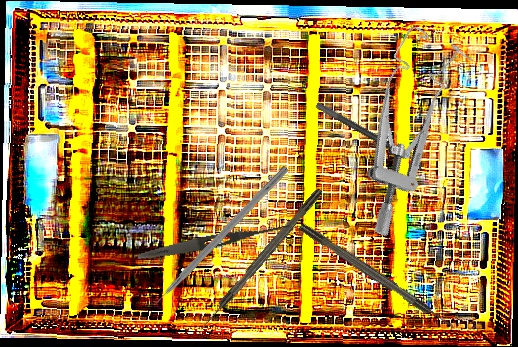Chopper: (137, 158, 290, 314)
Dressing Forceps: (136, 217, 292, 265)
Fixation Ring: (310, 101, 426, 178)
Hook Surgical: (196, 187, 325, 333), (298, 220, 458, 334)
Speculum: (313, 21, 488, 239)
